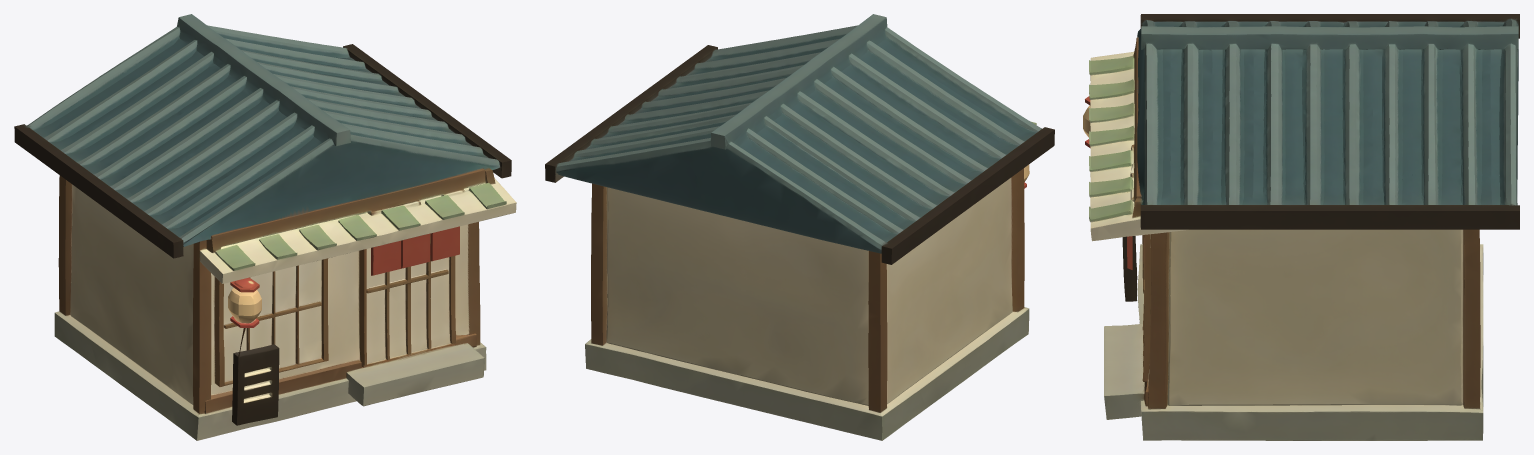
The model's file is source.glb.
3 renders of one model, left to right at view 1: azimuth 30°, elevation 25°; view 2: azimuth 150°, elevation 25°; view 3: azimuth 270°, elevation 25°, orthographic. The views are drawn at different scales.
Parts seen in each view (by area): view 1: model; view 2: model; view 3: model.
Part boxes in pixels (x1,y1,x2,y2): model: (14,14,516,440); model: (545,14,1054,440); model: (1083,14,1519,440).
Size of the model in its own units: 1.9 by 1.48 by 1.78.
Materials: 1 (1 with a texture image).
